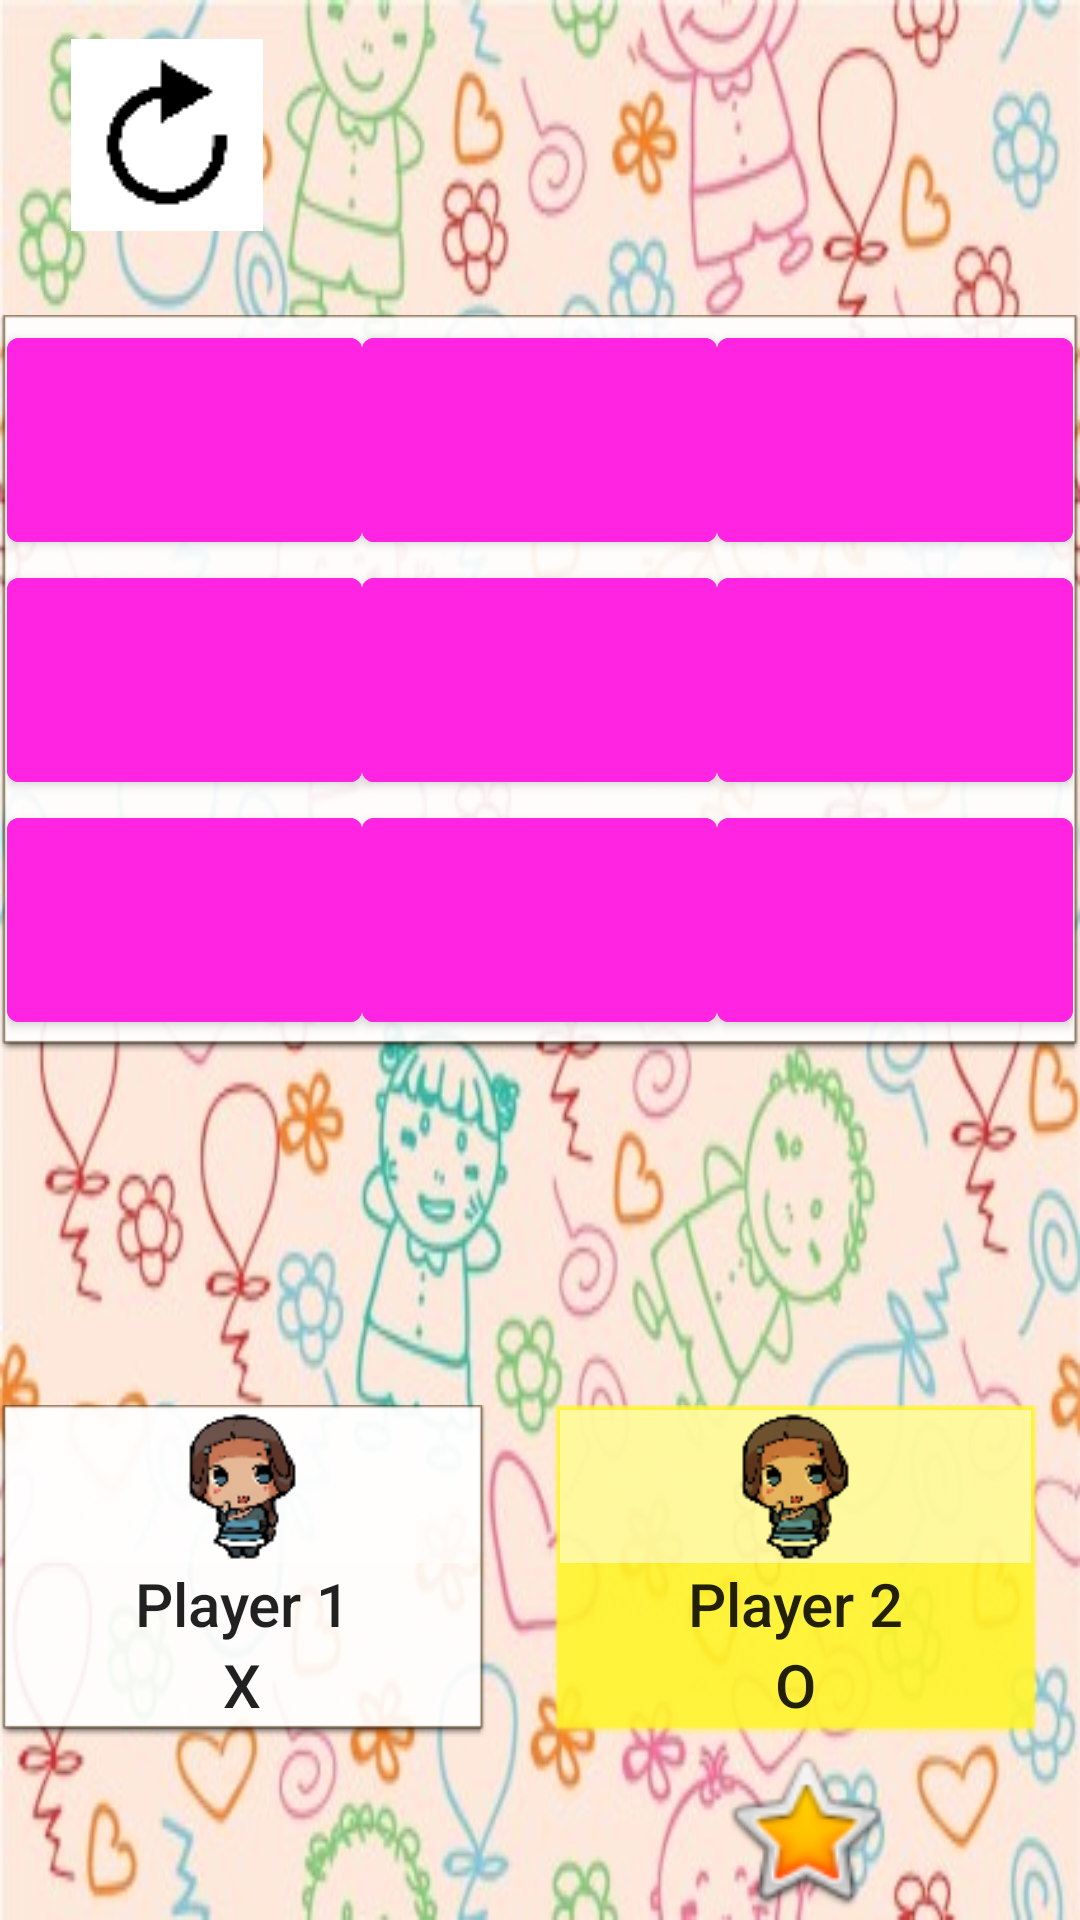

Screen size 1080px×1920px. Icon name, then its center in pixels as point (x, y):
refresh: point (167, 135)
star on: point (805, 1830)
